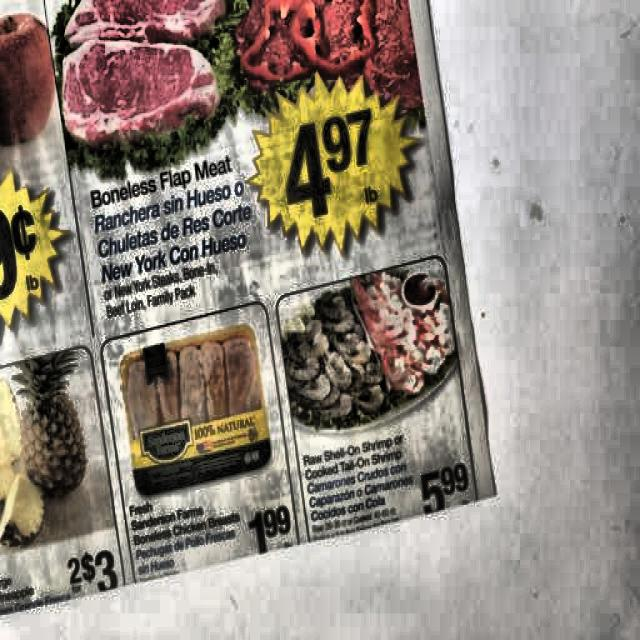paper: (0, 1, 494, 598)
